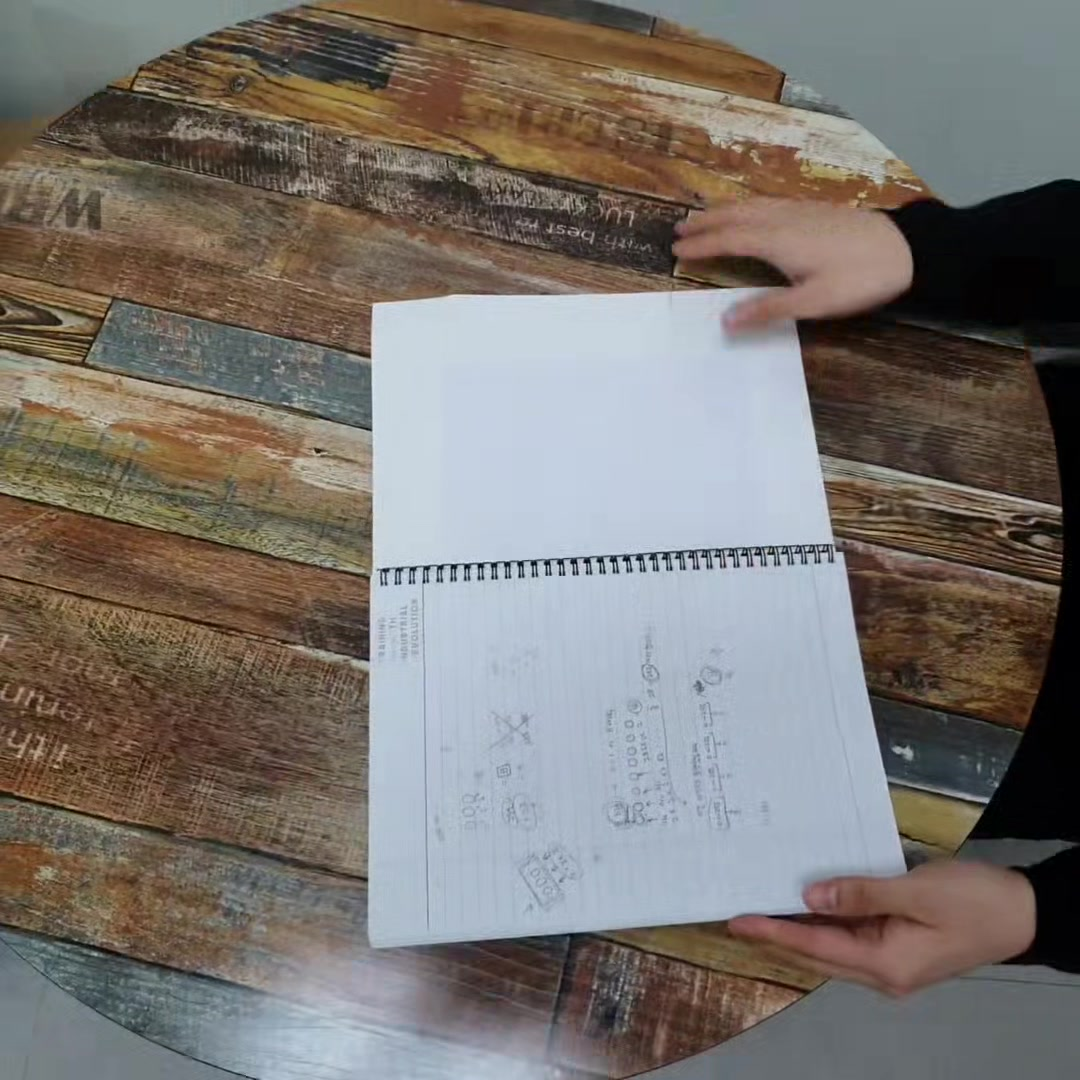book: (364, 284, 905, 946)
